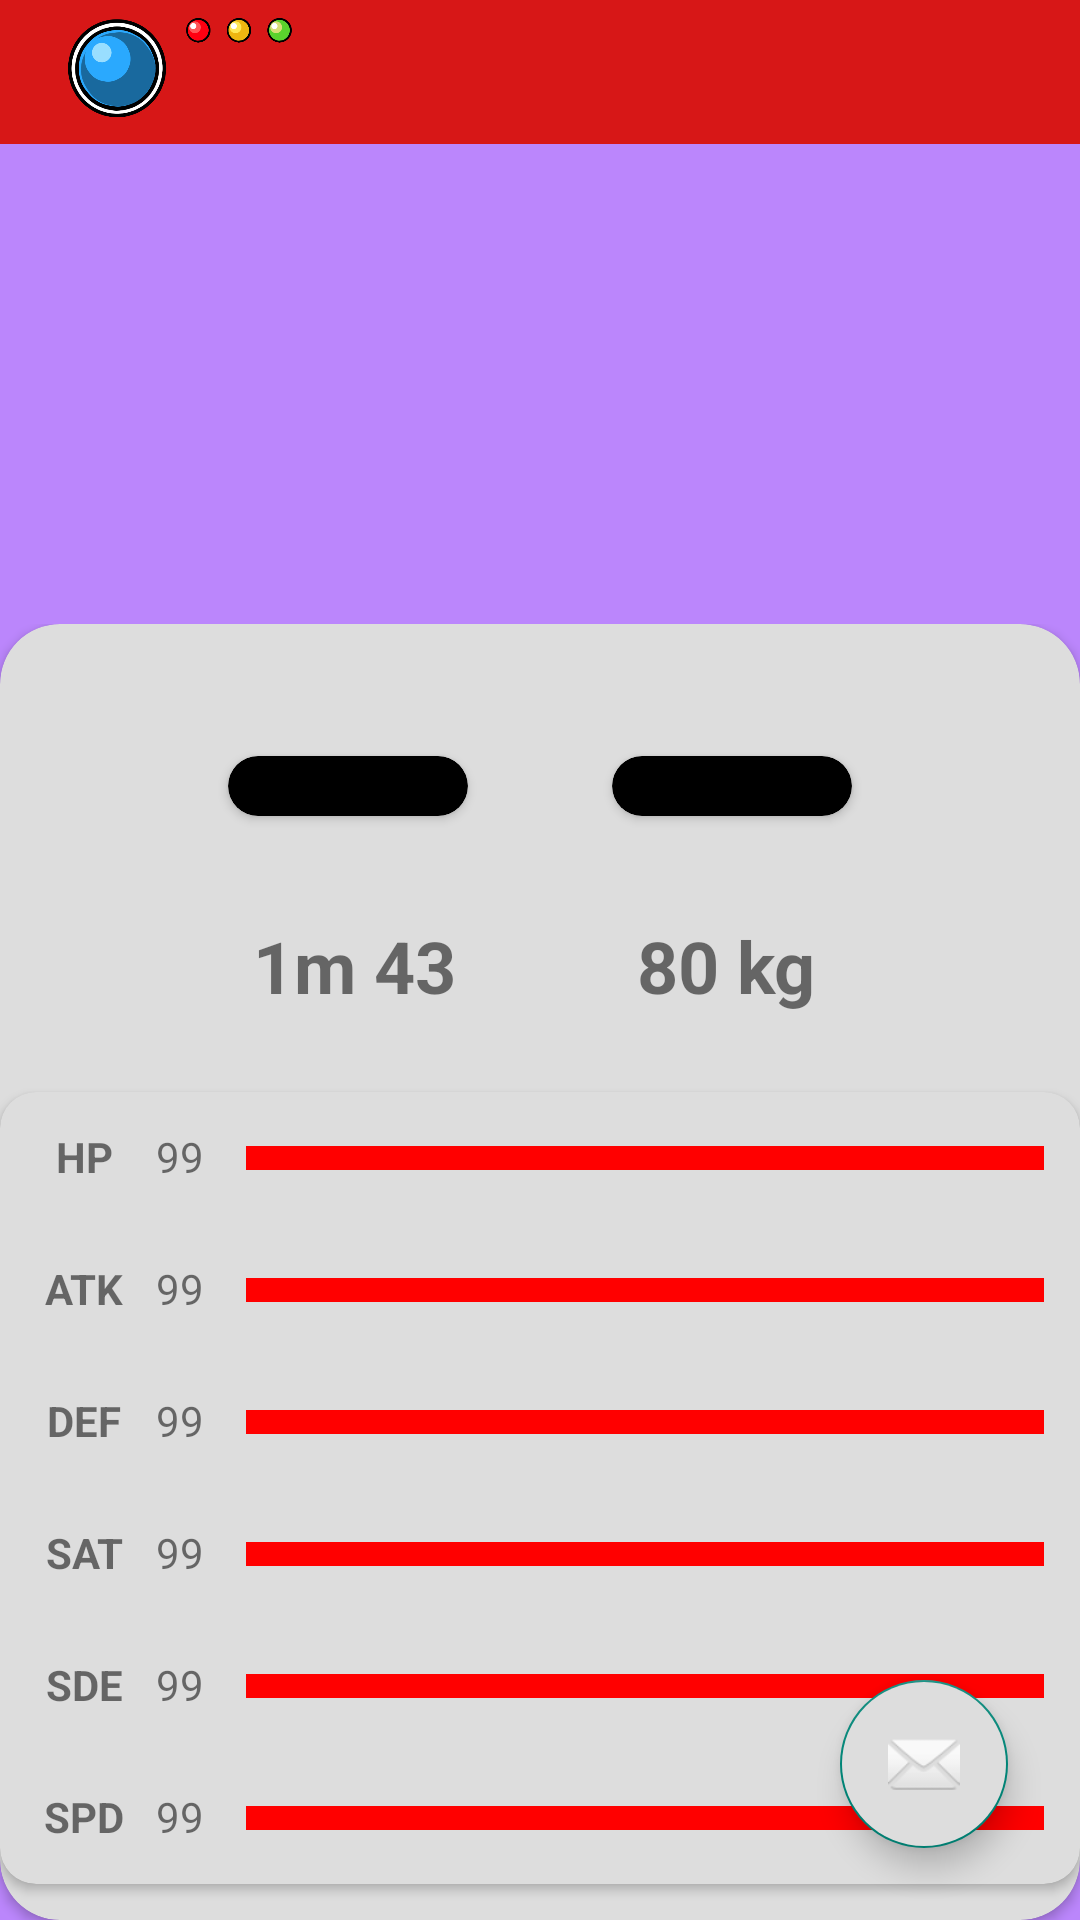

Icon click points for this 1080×1920 phone screenshot, format (x,y):
email: (924,1764)
topbar lights: (180,67)
